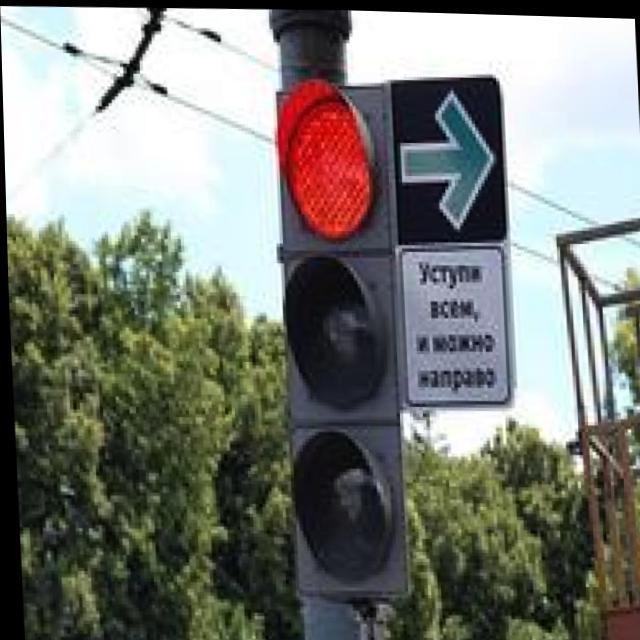red_light: (235, 5, 419, 239)
